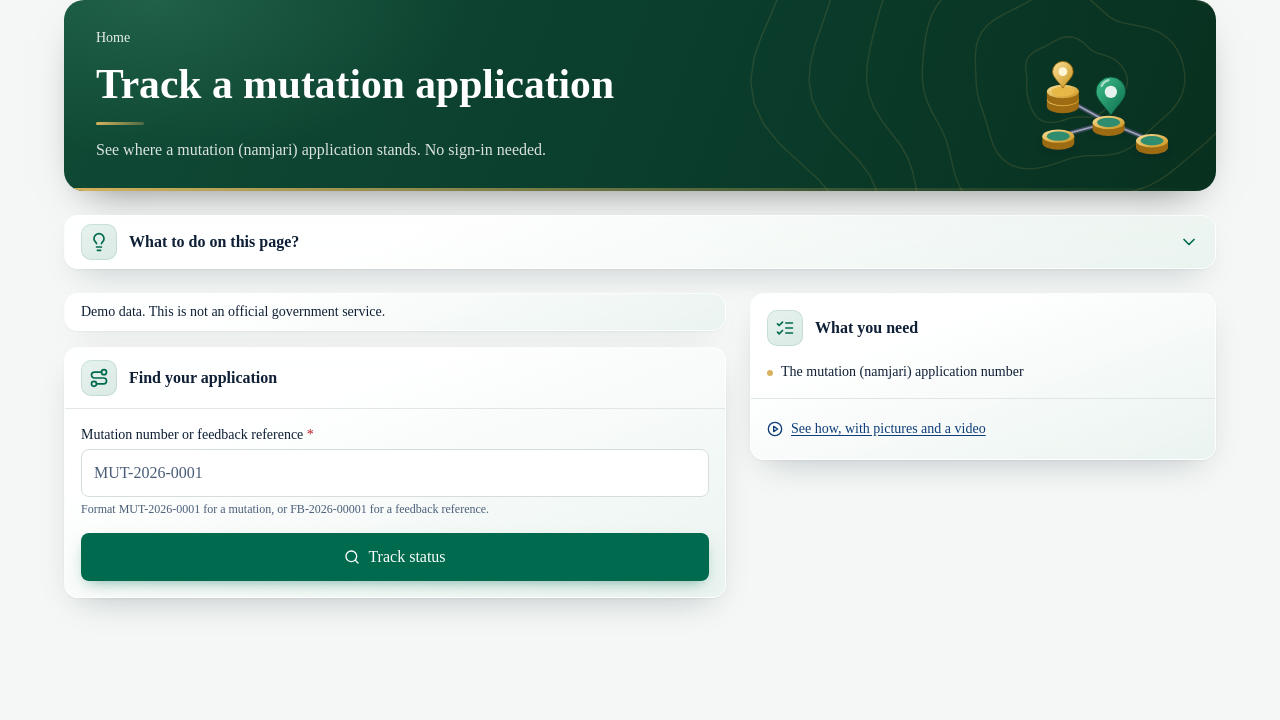
Test: TrackView with a feedback reference › looks up FB- numbers on the feedback endpoint and shows status and reply
Type " fb-2026-00042 " into the field labelled "Mutation number or feedback reference *" at (395, 473), box [81,449,709,497]
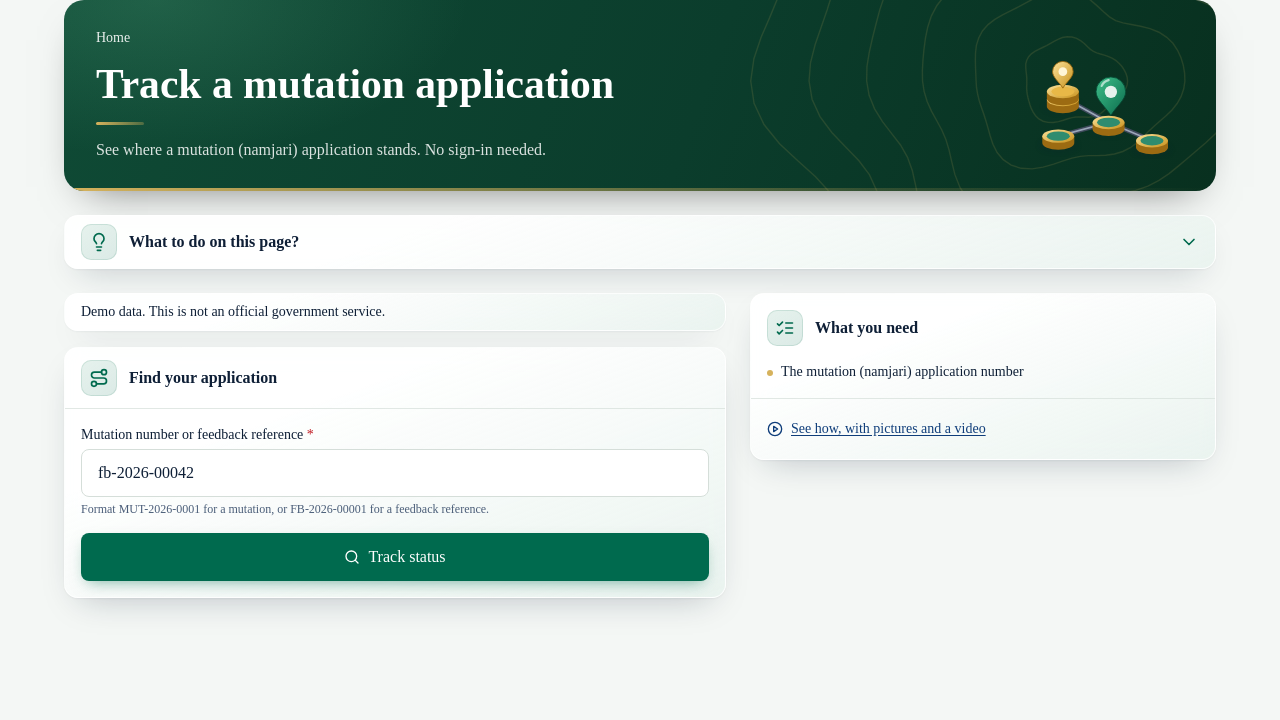
Click the button "Track status" at (395, 557), box [81,533,709,581]
(page scrolled)
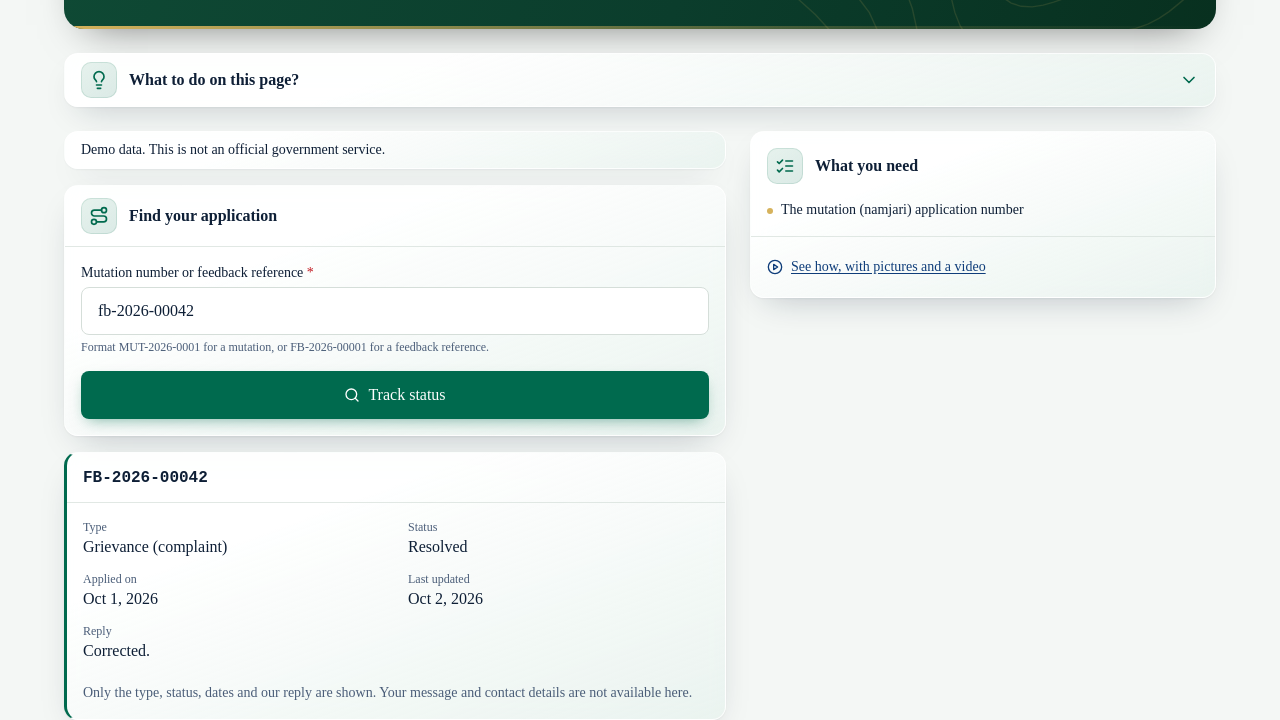
Check: the element with test id "feedback-status" is shown, box [64,452,726,719]
Check: the text with test id "feedback-state" reads "Resolved", box [408,538,468,555]
Check: the text "Corrected." is shown, box [83,642,150,659]
